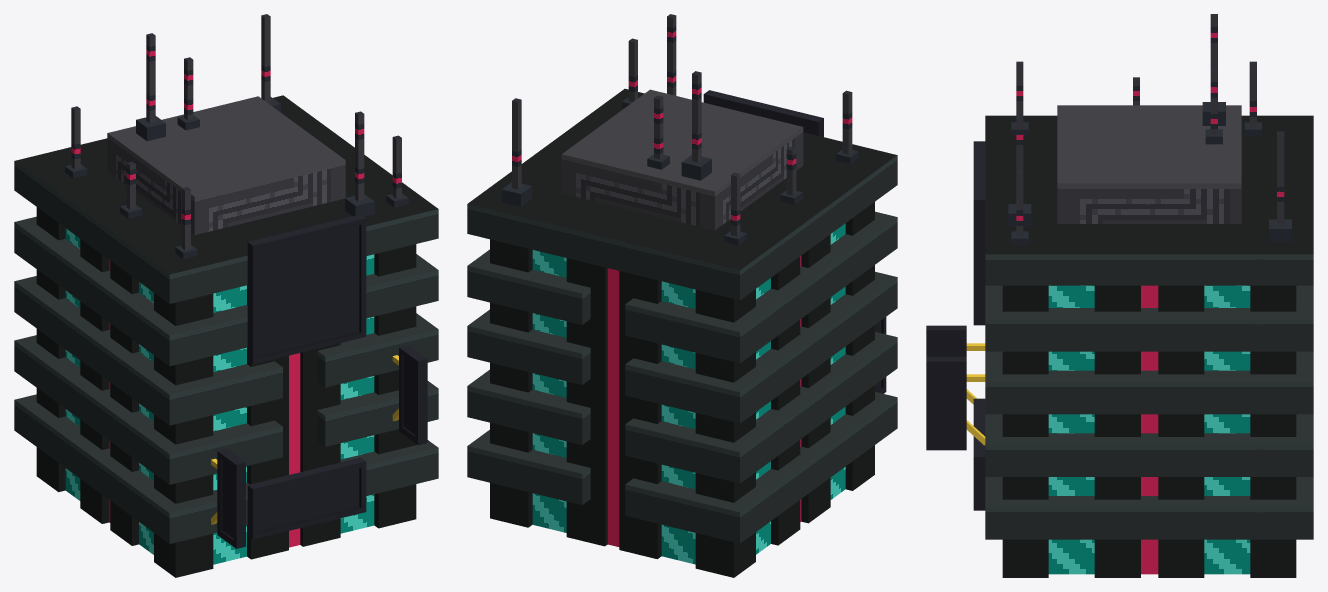
Rendered from Building_2_1x1.gltf.
3 views of the same model, side by side, from view 1: azimuth 30°, elevation 25°; view 2: azimuth 150°, elevation 25°; view 3: azimuth 270°, elevation 25° (orthographic). The views are drawn at different scales.
Visible parts, largest first — view 1: cuboid, Sign, Sign3, Sign1, Sign2; view 2: cuboid, Sign; view 3: cuboid, Sign1, Sign, Sign2, Sign3.
Boxes of the visible parts, x1,y1,x2,y2 form: cuboid: [14, 14, 438, 577]; Sign: [247, 214, 366, 364]; Sign3: [247, 457, 366, 539]; Sign1: [392, 345, 427, 445]; Sign2: [211, 449, 245, 548]; cuboid: [467, 14, 897, 577]; Sign: [703, 90, 823, 136]; cuboid: [985, 14, 1313, 577]; Sign1: [926, 356, 985, 450]; Sign: [973, 141, 985, 325]; Sign2: [926, 325, 985, 404]; Sign3: [973, 398, 985, 510].
Bounding box in the file's own units: 14.25 × 22.85 × 16.81.
1 material, 1 textured.
